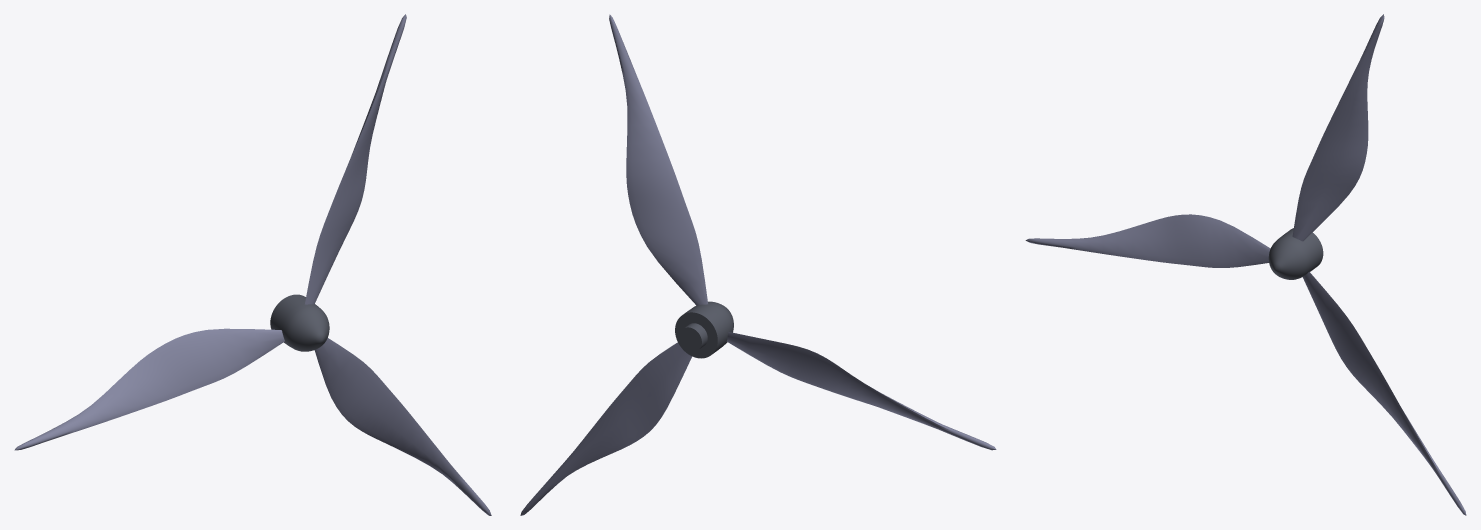
The model's file is vetrak.glb.
The picture shows the model from 3 angles, left to right: view 1: azimuth 30°, elevation 25°; view 2: azimuth 150°, elevation 25°; view 3: azimuth 330°, elevation 25°; orthographic projection. The views are drawn at different scales.
Parts seen in each view (by area): view 1: vetr; view 2: vetr; view 3: vetr.
Boxes of the visible parts, x1=… form: vetr: x1=14, y1=14, x2=491, y2=515; vetr: x1=520, y1=14, x2=996, y2=515; vetr: x1=1025, y1=14, x2=1466, y2=515.
Size of the model in its own units: 6.86 by 7.19 by 0.8973.
